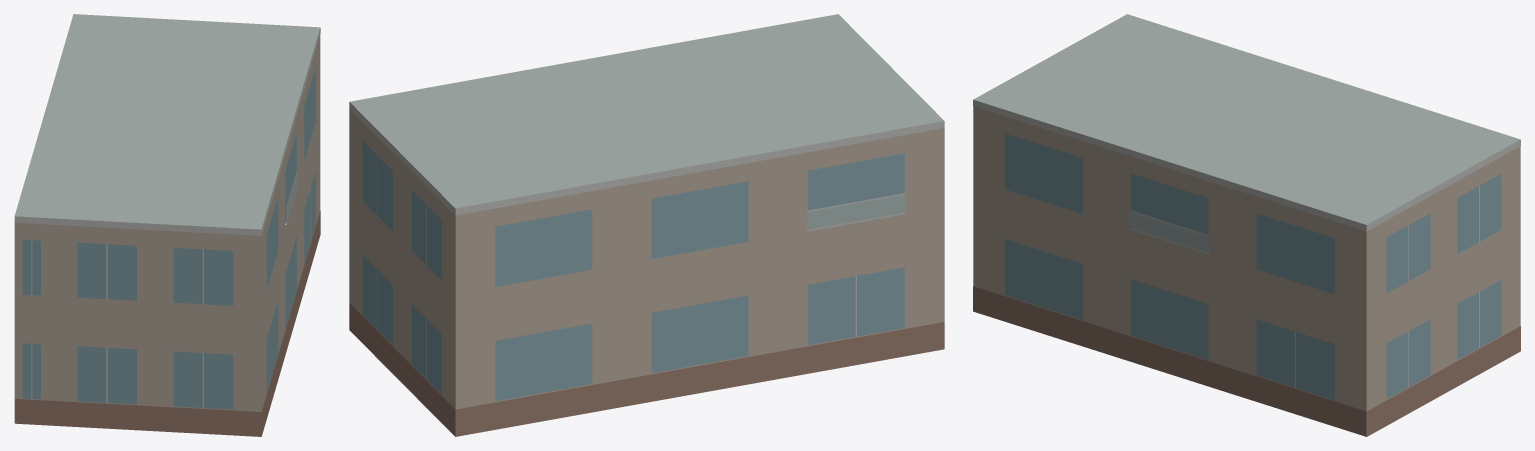
Rendered from survey-upis-32631968.glb.
3 renders of one model, left to right at view 1: azimuth 30°, elevation 25°; view 2: azimuth 150°, elevation 25°; view 3: azimuth 270°, elevation 25°, orthographic. The views are drawn at different scales.
Parts seen in each view (by area): view 1: survey-upis-32631968.tmp; view 2: survey-upis-32631968.tmp; view 3: survey-upis-32631968.tmp.
Part boxes in pixels (x1,y1,x2,y2): survey-upis-32631968.tmp: (14, 14, 320, 436); survey-upis-32631968.tmp: (349, 14, 944, 436); survey-upis-32631968.tmp: (973, 14, 1520, 436).
Bounding box in the file's own units: 16.99 × 7.95 × 18.63.
